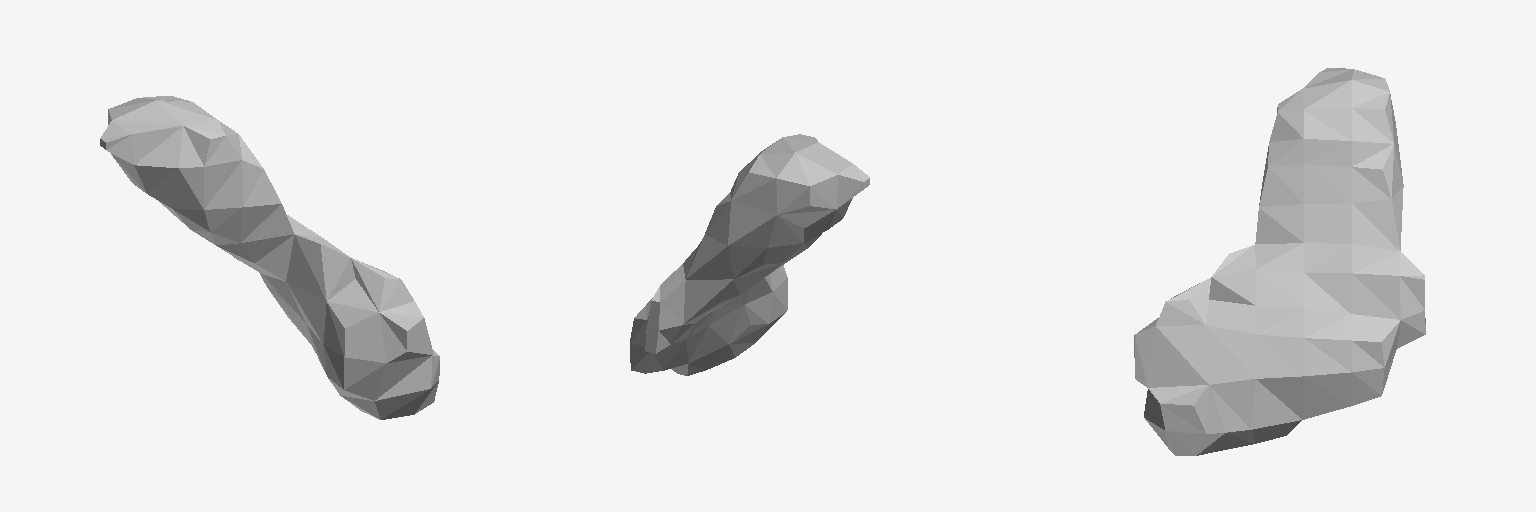
Rendered from modeloPiedras6.obj.
The picture shows the model from 3 angles: view 1: azimuth 30°, elevation 25°; view 2: azimuth 150°, elevation 25°; view 3: azimuth 270°, elevation 25°; orthographic projection.
Bounding box in the file's own units: 1.96 × 2.15 × 1.95.